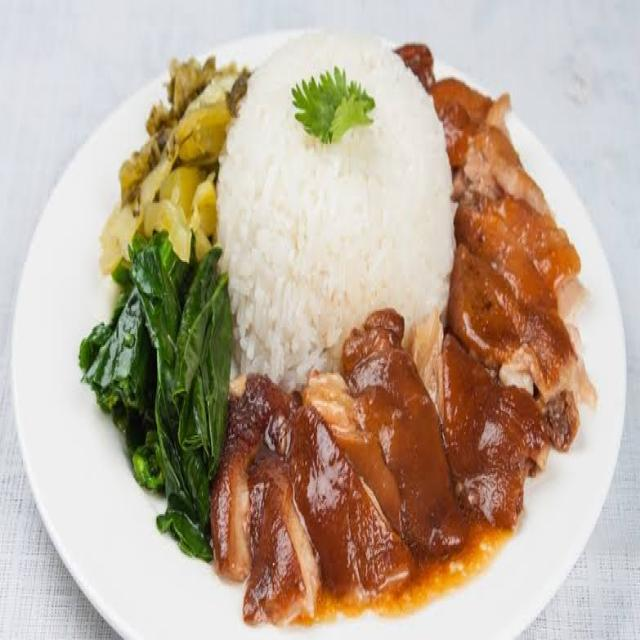carb: (234, 61, 451, 334)
meat: (254, 337, 576, 577), (443, 70, 610, 490)
stewed pork leg on rice: (85, 57, 611, 589)
vegetable: (94, 198, 223, 557)
